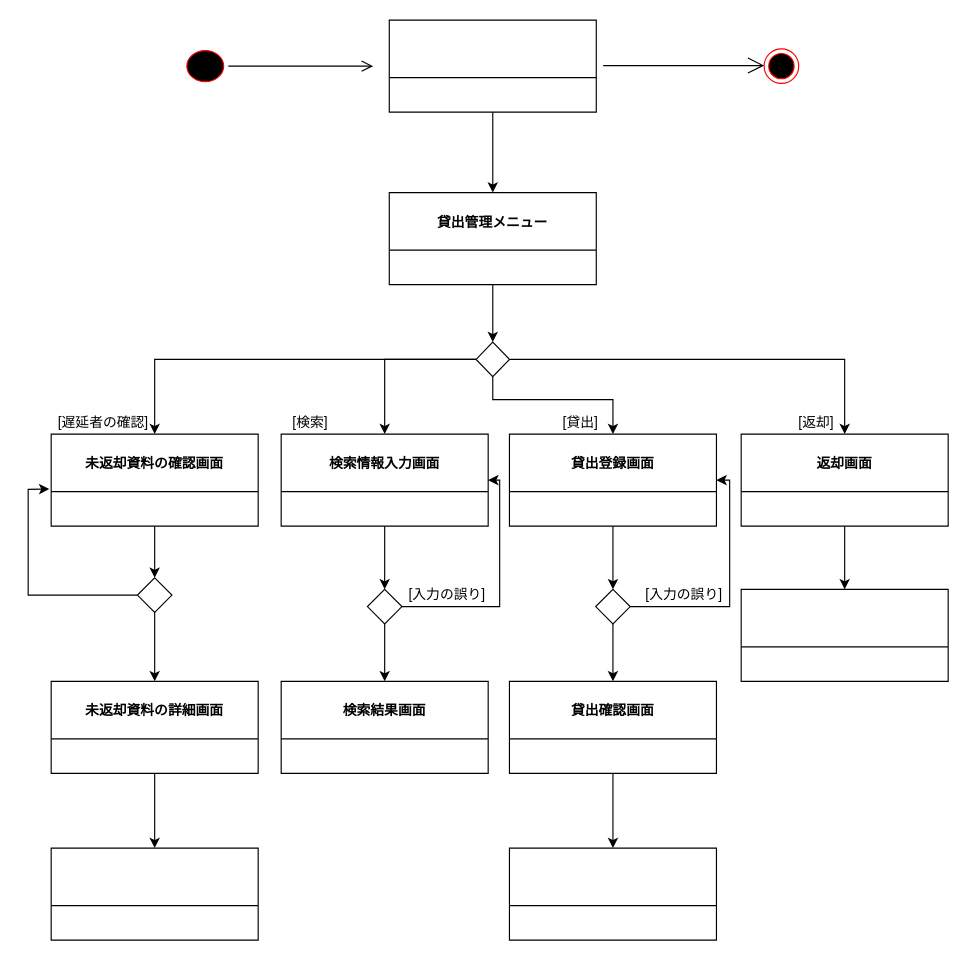
The diagram is 968 pixels wide and 960 high, and some of its shapes have lost their labels. Each missing label, with the centre of its shape:
会員メニュー画面: (492,65)
督促状の郵送有無確認画面: (154,893)
貸出完了画面: (612,893)
返却確認画面: (844,634)
